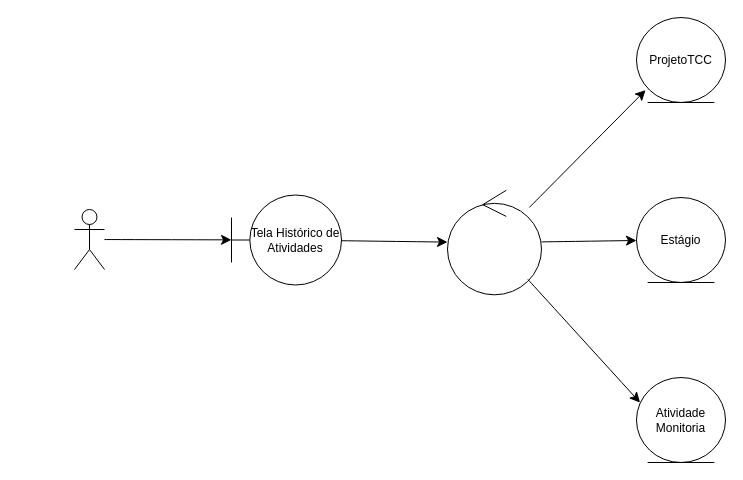
This 743x480 diagram has some shape labels left out. Here are the shapes that lost their labels. From the top down, the centre of each, then its label:
At point (89, 239): "Ator Cadastrado no SITEM".
At point (494, 242): "Controlador Histórico de Atividades".
